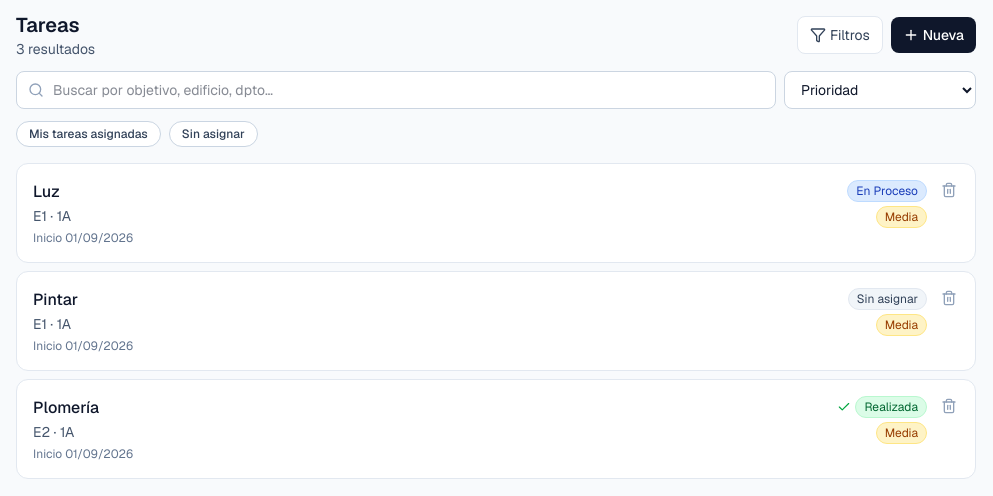
Scenario: TareasPage — filtros en memoria › «Mis tareas asignadas» deja solo las del usuario
Expected: the text "3 resultados" is shown, [16, 39, 95, 59]
Click the button "Mis tareas asignadas" at coordinates (88, 134), box [16, 121, 161, 147]
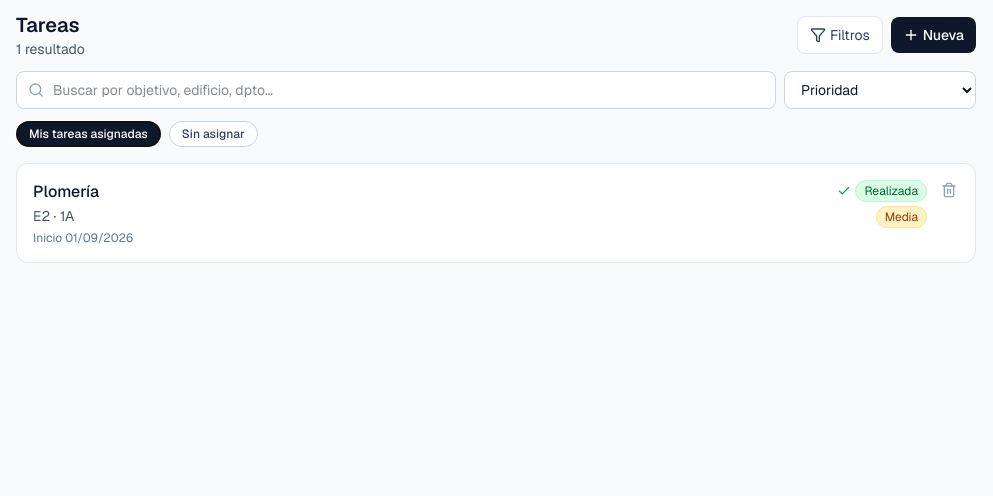
Expected: the heading "Plomería" is shown, [33, 181, 99, 202]
Result: the text "1 resultado" is shown at [16, 39, 85, 59]
